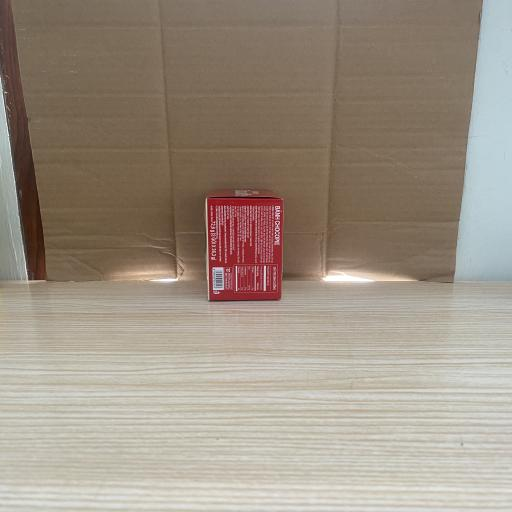chocopie: (205, 189, 284, 301)
